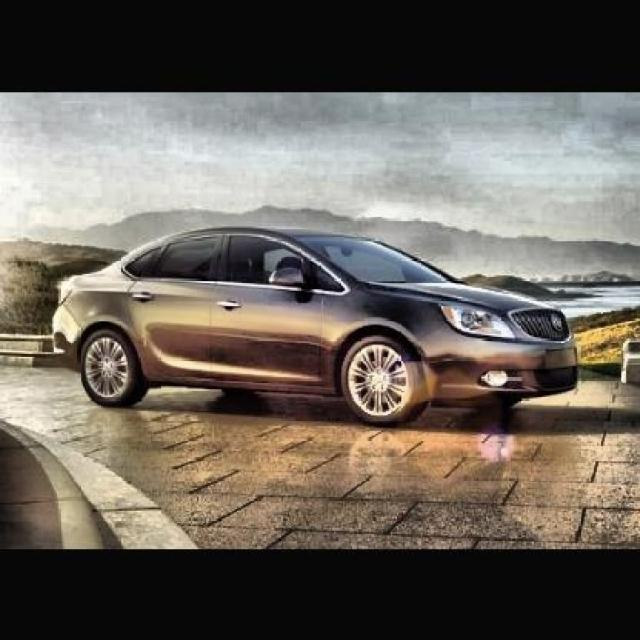black: (51, 226, 579, 410)
